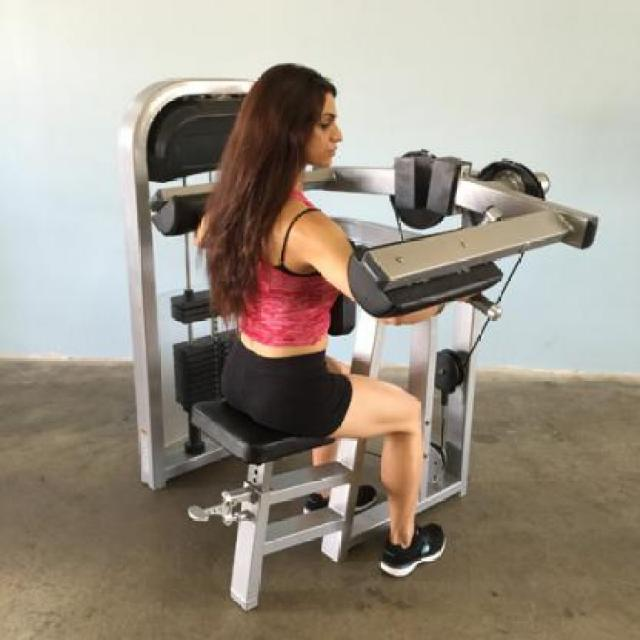lateral raises machine: (119, 78, 598, 608)
